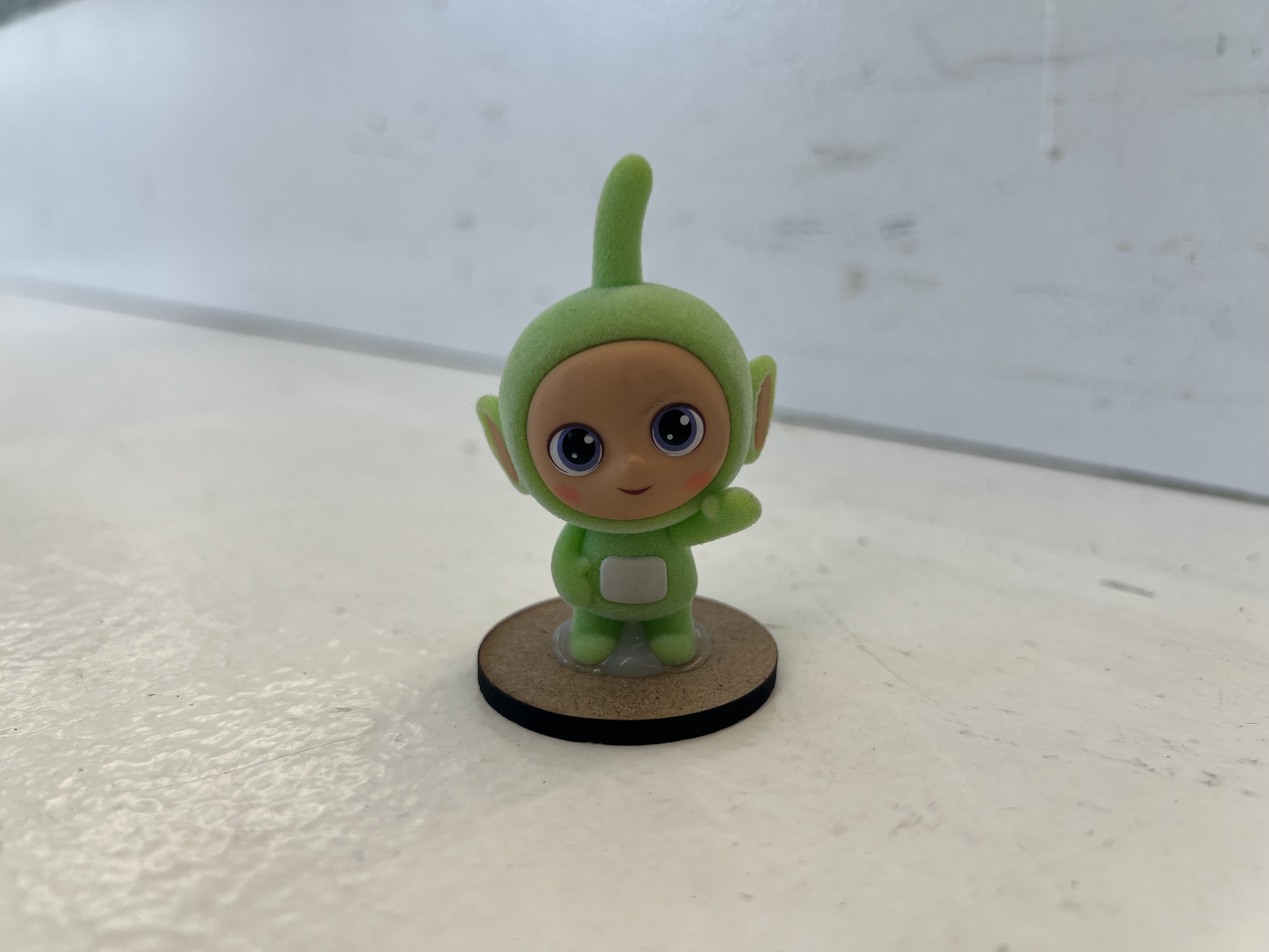teletubby: (478, 156, 776, 670)
